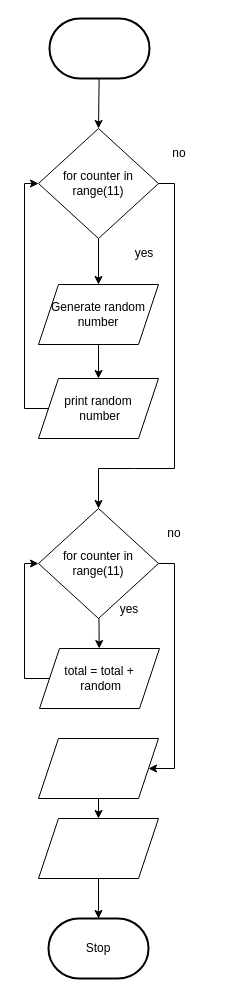
Image size: 227x996. Some labels were removed from this diagram. The shapes that lost their labels are listed below. From the top down, each one's centre as x and y in pixels, then its label:
[99,48]: Start
[98,768]: total / totalNum
[98,848]: print total
